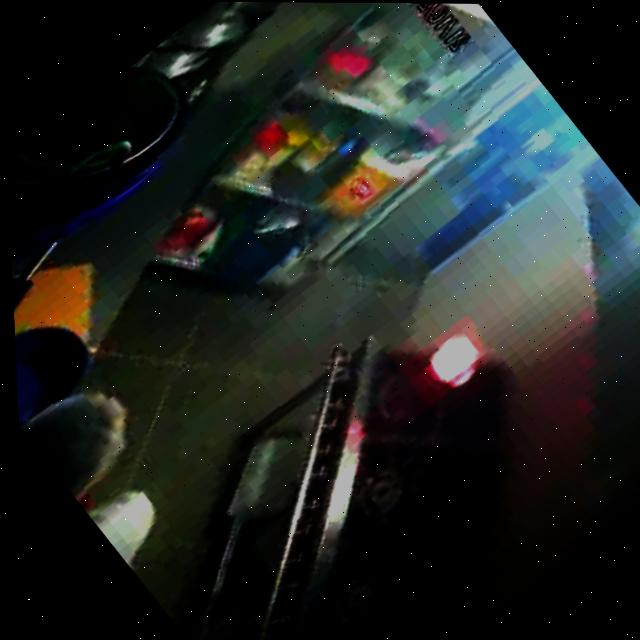Fire: (412, 318, 488, 393)
